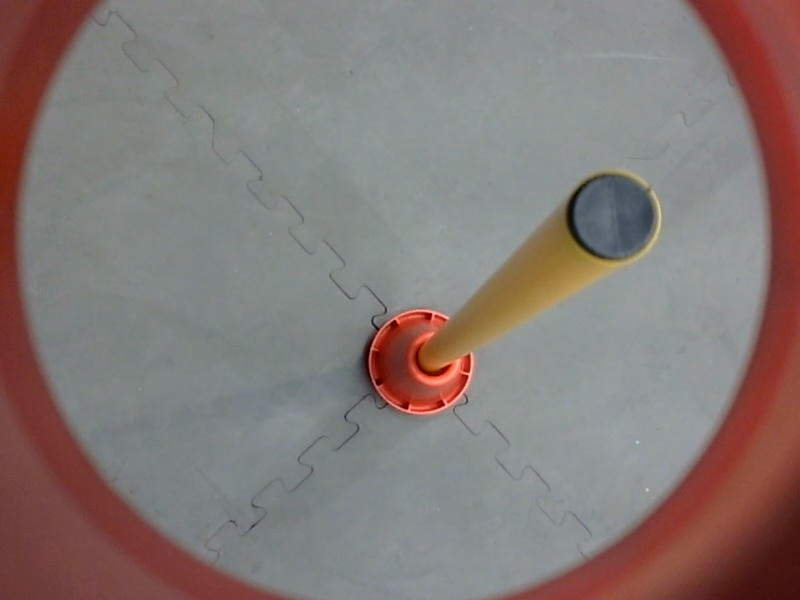tip: (556, 153, 670, 278)
